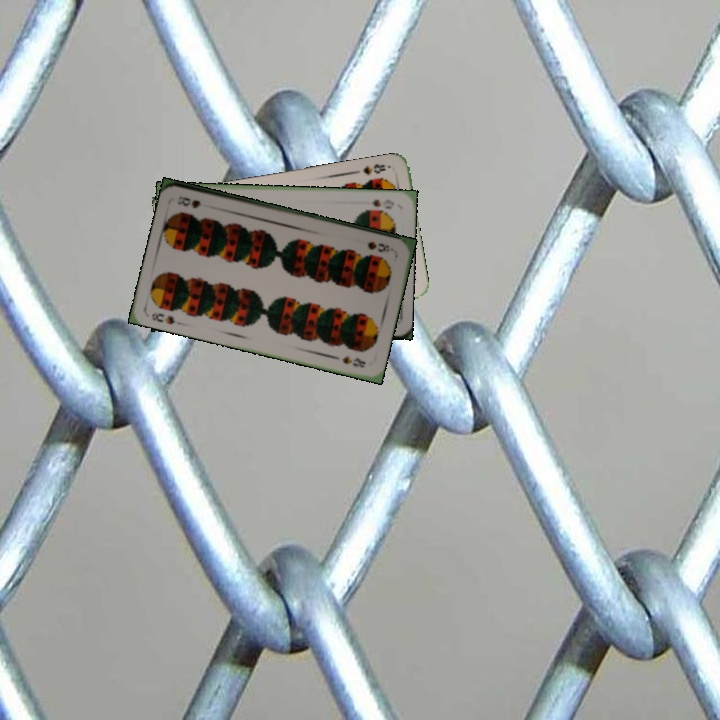S8: (364, 237, 396, 256), (147, 309, 177, 327), (359, 160, 388, 178)
SO: (368, 195, 397, 211)
